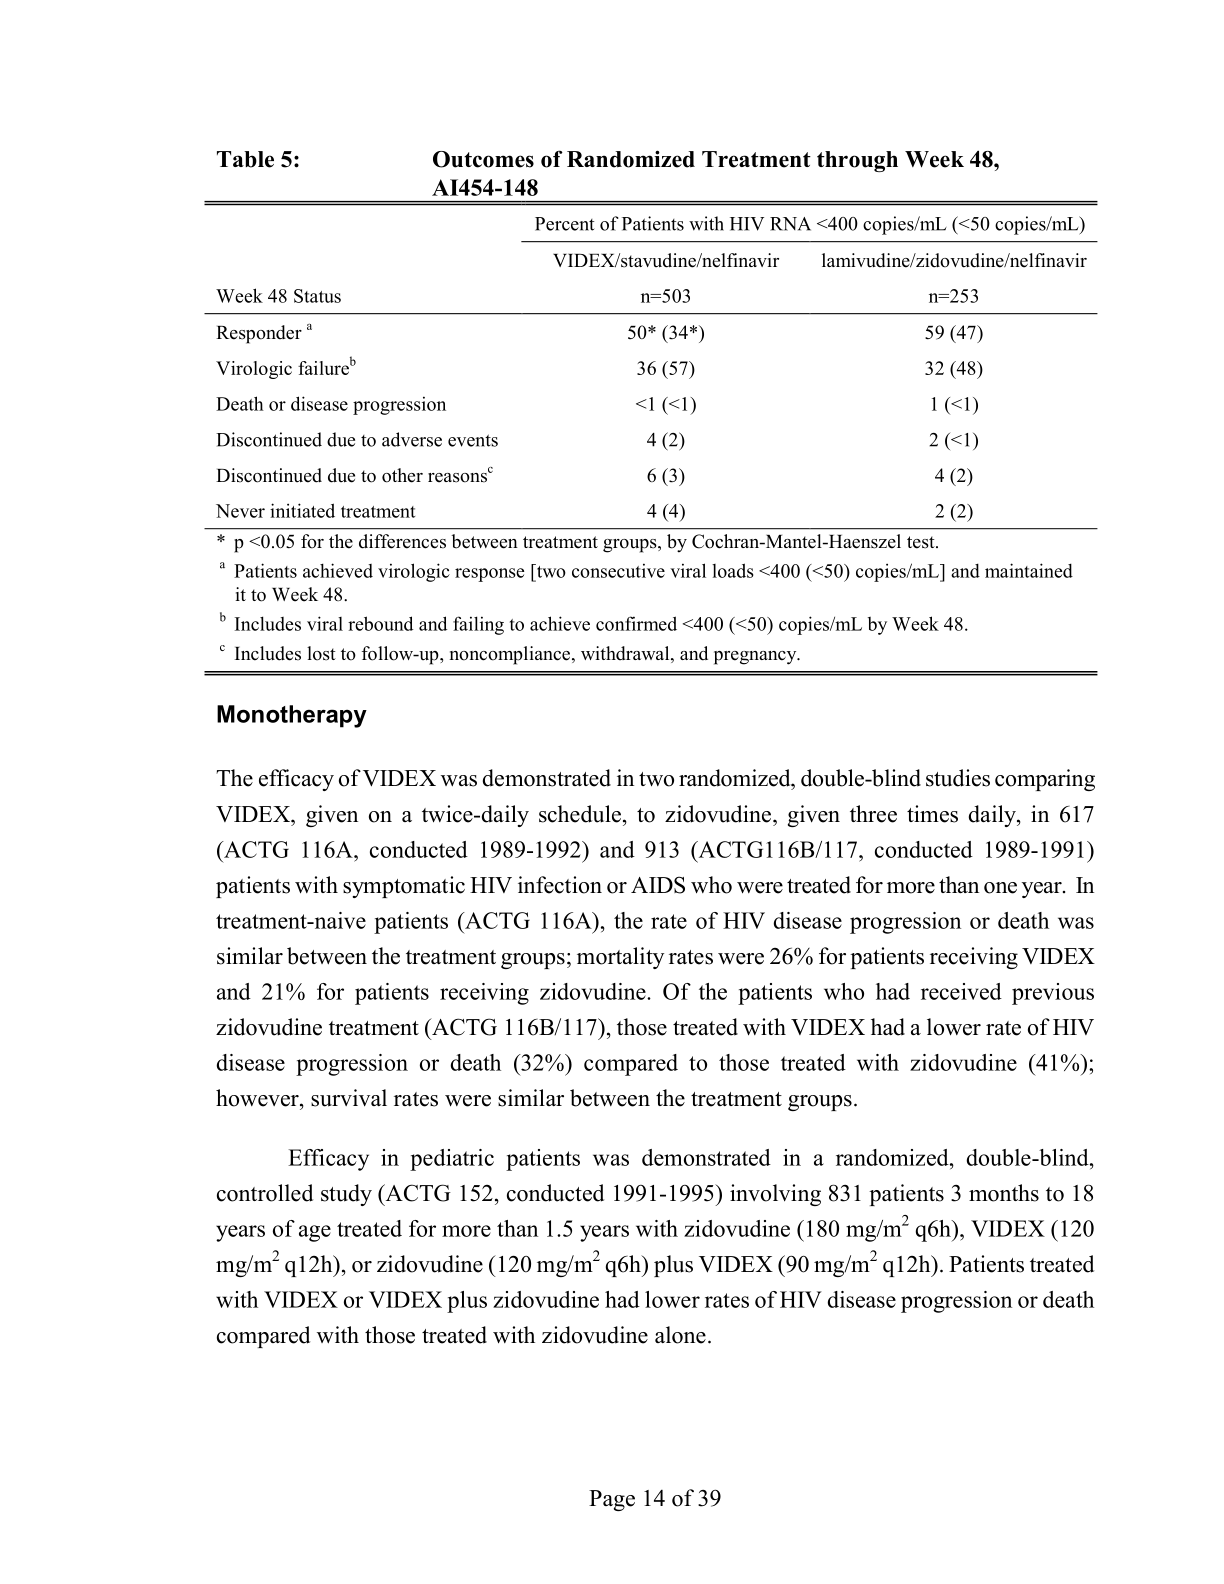partial_lined_merged_cells: (204, 198, 1099, 531)
